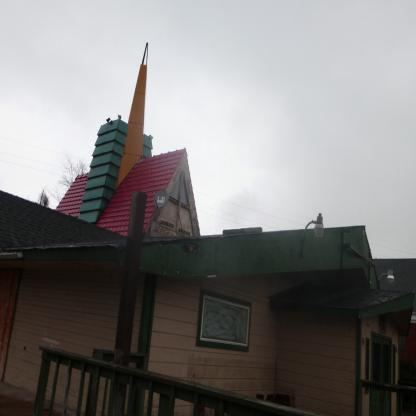door: (370, 336, 393, 415)
